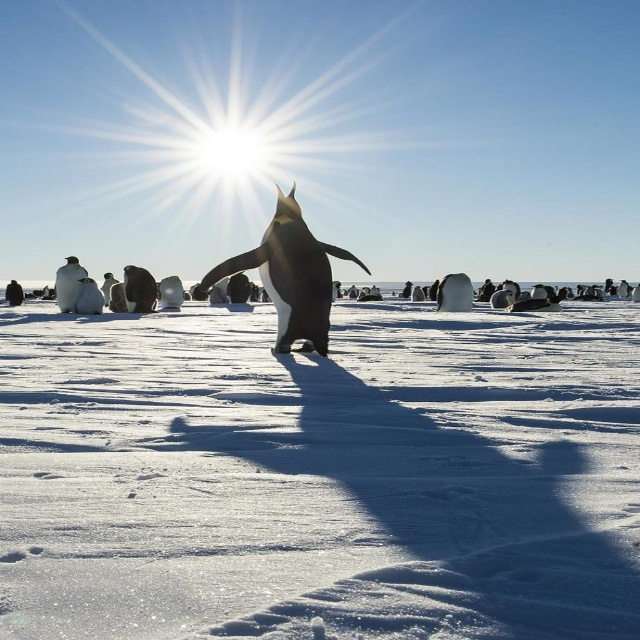Penguin: (191, 185, 367, 358), (122, 262, 163, 313), (432, 265, 476, 312), (53, 257, 86, 311), (228, 267, 254, 303), (157, 273, 182, 307), (78, 274, 99, 314), (507, 295, 556, 309), (4, 277, 25, 307), (182, 279, 212, 300), (112, 284, 130, 316), (209, 277, 228, 304), (615, 272, 631, 300), (503, 280, 520, 303), (480, 280, 496, 303), (578, 285, 601, 301), (492, 289, 509, 310), (364, 284, 386, 299), (598, 274, 613, 295), (398, 277, 414, 296), (104, 270, 112, 306), (552, 287, 574, 300), (535, 284, 555, 298), (342, 284, 360, 299), (333, 280, 342, 300), (416, 288, 425, 302), (249, 284, 255, 304)
